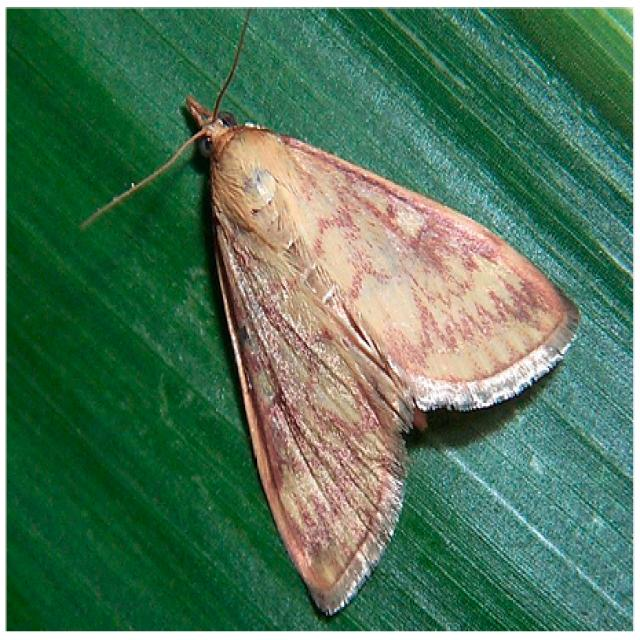cornborer-Adult-: (158, 83, 590, 627)
